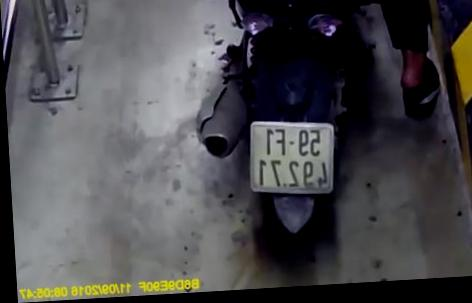License_Plate: (242, 114, 346, 199)
